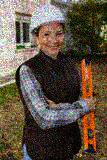helmet: (30, 3, 67, 56)
